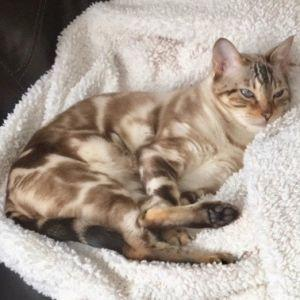bengal: (207, 27, 300, 135)
